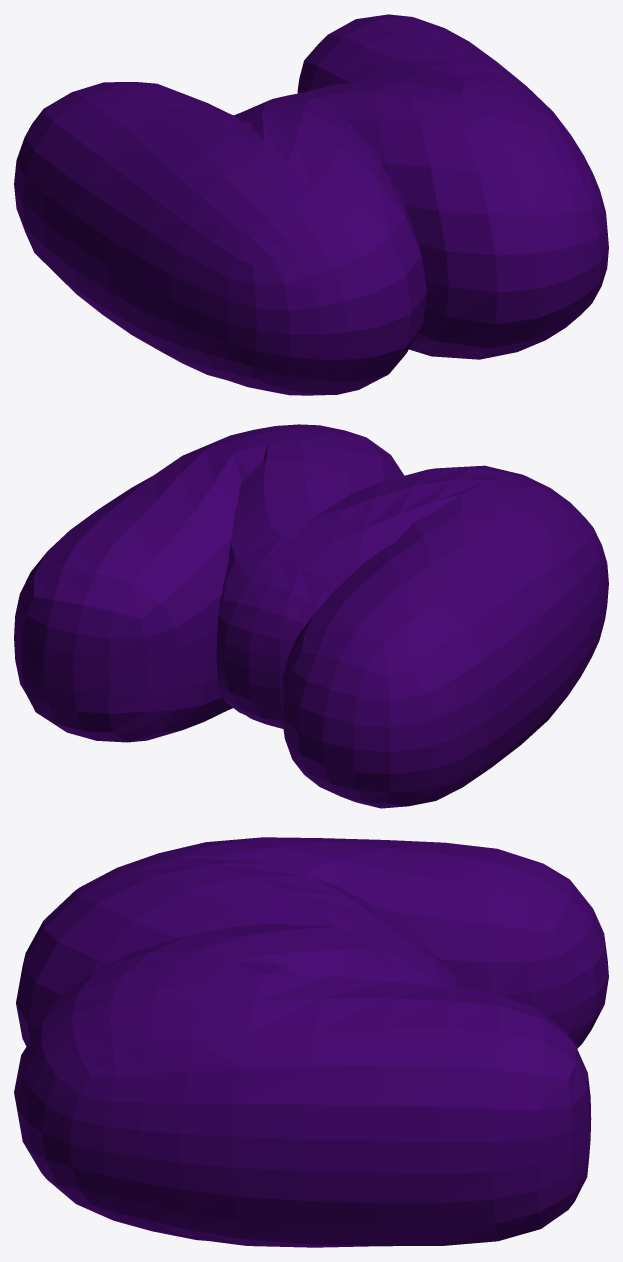
The picture shows the model from 3 angles, top to bottom: view 1: azimuth 30°, elevation 25°; view 2: azimuth 150°, elevation 25°; view 3: azimuth 270°, elevation 25°; orthographic projection. The views are drawn at different scales.
Size of the model in its own units: 0.8951 by 0.451 by 0.8974.
